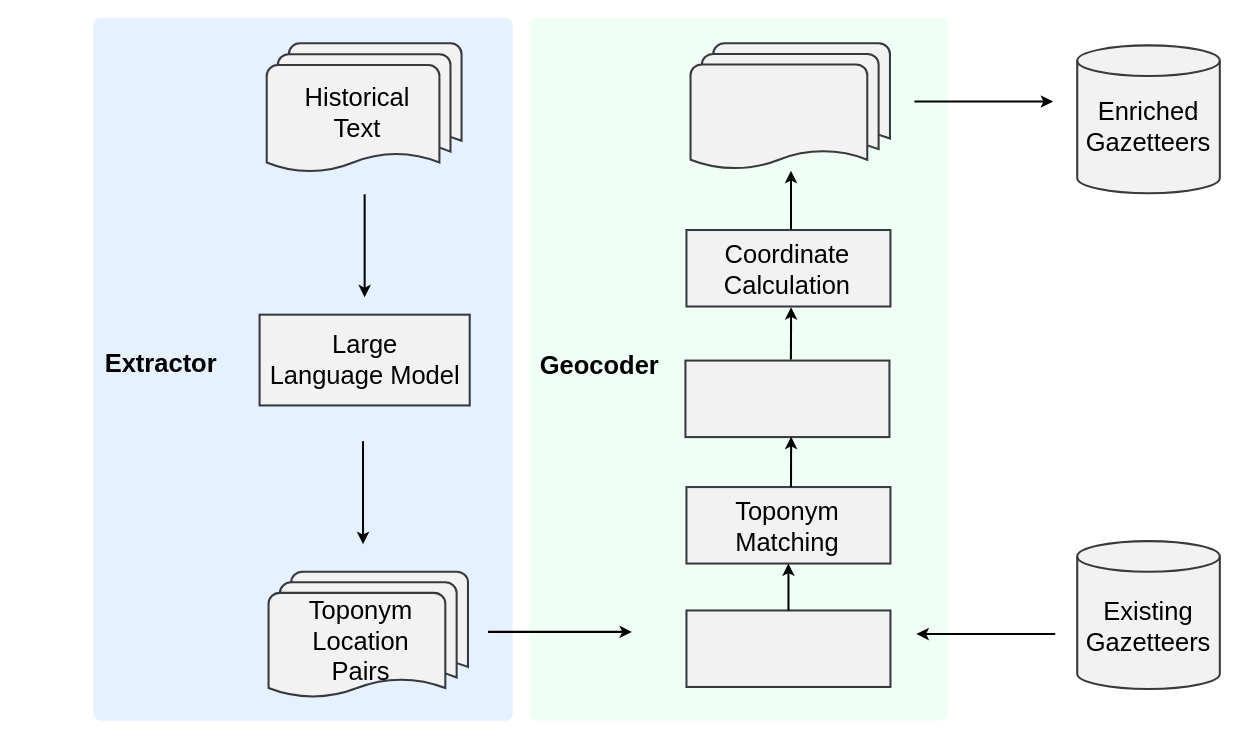
The diagram is 1258 pixels wide and 737 high, and some of its shapes have lost their labels. The shapes that lost their labels are listed below. From the top down, each one's box as (x1, y1, x2, y2) in pixels, then its label:
(689, 42, 890, 171): Toponym Coordinate Pairs
(684, 359, 890, 438): Direction Detection
(685, 609, 891, 687): Toponym Normalization
